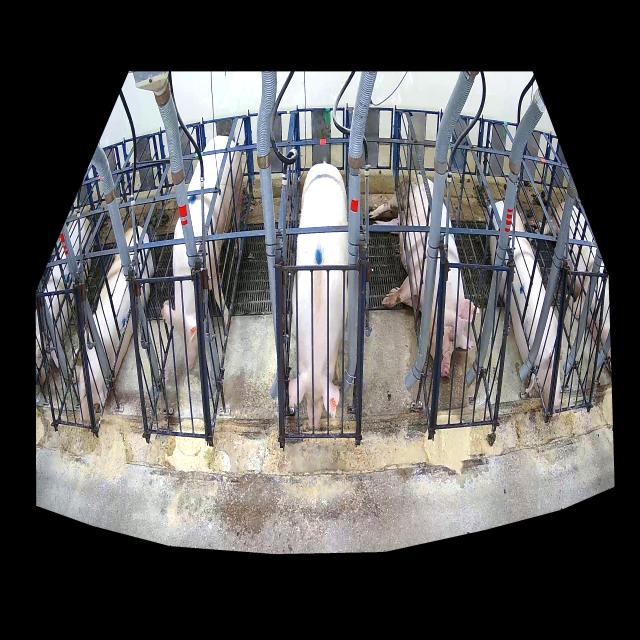pig: (370, 174, 475, 376), (161, 136, 242, 370), (72, 225, 154, 420), (288, 163, 348, 429), (486, 201, 562, 409)
